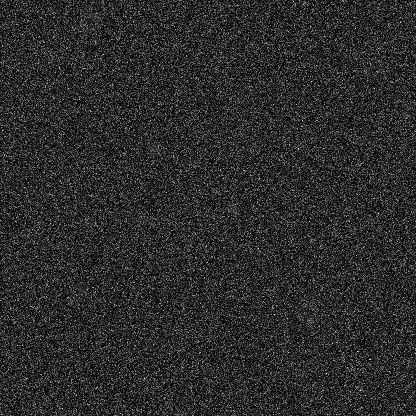Ring: (77, 9, 101, 33), (294, 301, 318, 325), (360, 54, 384, 78)
Spot: (43, 51, 59, 67), (136, 210, 152, 226), (146, 139, 162, 155), (170, 36, 186, 52), (79, 212, 95, 228), (225, 200, 241, 216), (363, 191, 379, 207), (21, 227, 37, 243)
